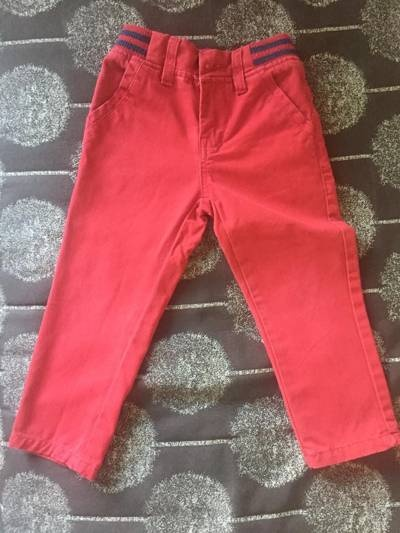Pants: (18, 27, 396, 493)
